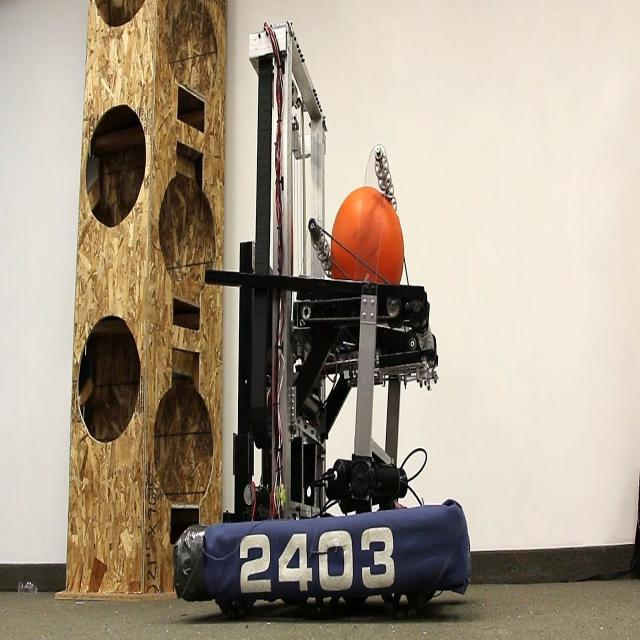robot: (176, 25, 470, 619)
